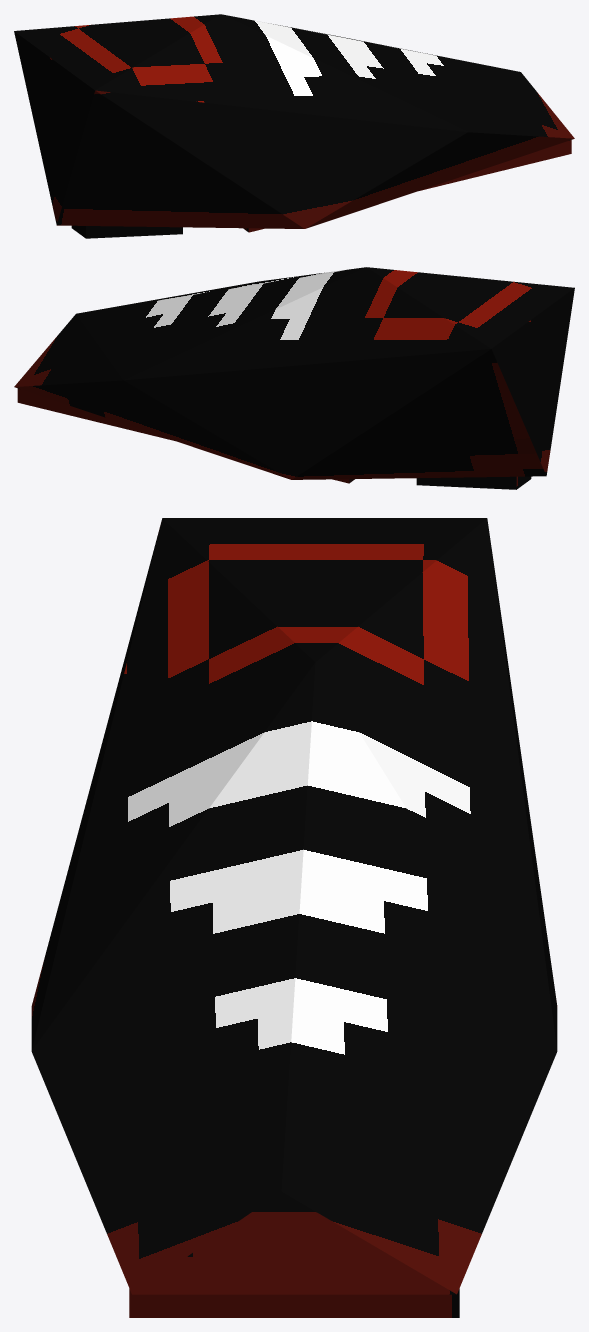
File: cloth_shoe.glb
3 renders of one model, top to bottom at view 1: azimuth 30°, elevation 25°; view 2: azimuth 150°, elevation 25°; view 3: azimuth 270°, elevation 25°, orthographic. The views are drawn at different scales.
Parts seen in each view (by area): view 1: shoe; view 2: shoe; view 3: shoe.
Part boxes in pixels (box(x1,y1,x2,y2)): shoe: box(14, 14, 574, 238); shoe: box(14, 267, 574, 489); shoe: box(31, 518, 557, 1317).
Size of the model in its own units: 1.62 by 0.5815 by 0.7713.
Materials: 1 (1 with a texture image).
